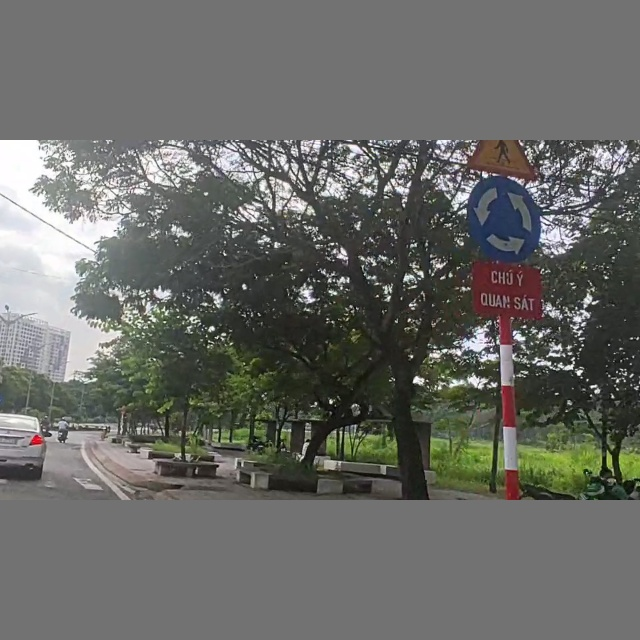R.303: (463, 176, 549, 261)
W.224: (466, 141, 539, 177)
